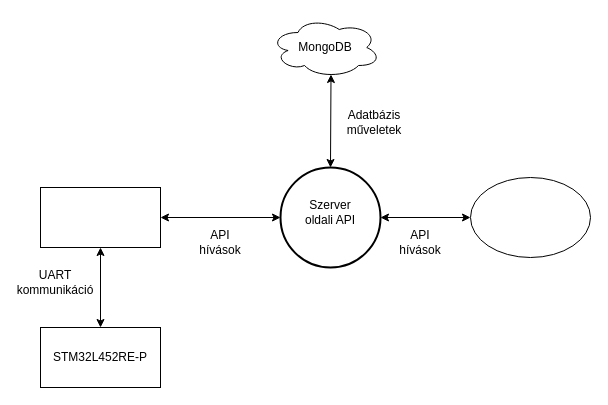
The diagram is 608 pixels wide and 405 high, and some of its shapes have lost their labels. Each missing label, with the centre of its shape:
ESP32 mikrovezérlő: the point at 100,217
Weboldal: the point at 530,217
